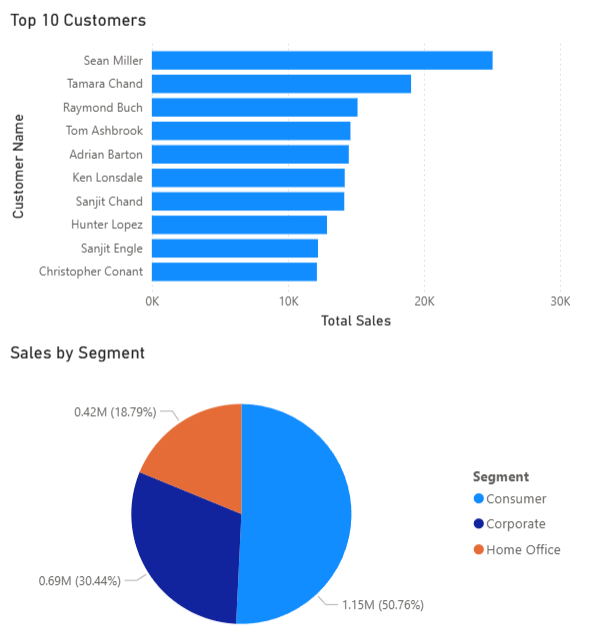

The dashboard page shown, as its layout file describes it:
{"tool":"powerbi","page":{"name":"Customer Analysis","canvas":[600,700],"ordinal":2},"visuals":[{"type":"barChart","title":"Top 10 Customers","fields":{"Category":["cleaned_train.Customer Name"],"Y":["cleaned_train.Total Sales"]},"box":[10,11.1,566.7,322.2],"z":0},{"type":"pieChart","title":"Sales by Segment","fields":{"Category":["cleaned_train.Segment"],"Y":["cleaned_train.Total Sales"]},"box":[10,343,567,322],"z":1}]}

Visuals, with their boxes on the page's 600x700 design canvas (x1, y1, x2, y2). These are canvas units, not pixel positions in the 594x643 screenshot, which may show the page scaled, cropped or inside an application window:
"Top 10 Customers" barChart: [10, 11, 577, 333]
"Sales by Segment" pieChart: [10, 343, 577, 665]
